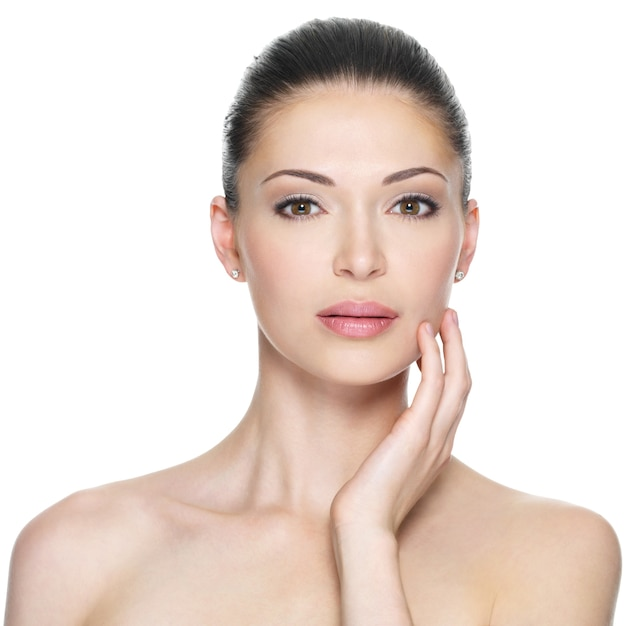young: (231, 19, 460, 409)
